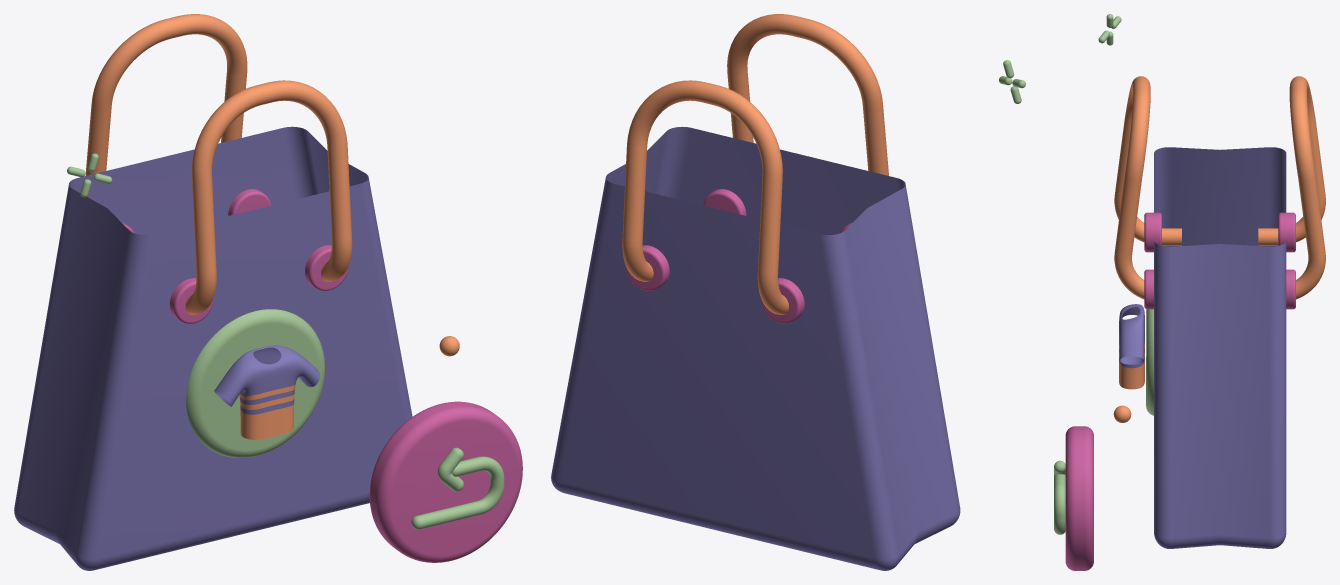
The model's file is return-product-3d-animated-icon-1500659327581.glb.
3 renders of one model, left to right at view 1: azimuth 30°, elevation 25°; view 2: azimuth 150°, elevation 25°; view 3: azimuth 270°, elevation 25°, orthographic. The views are drawn at different scales.
Parts seen in each view (by area): view 1: Cube.002, Cylinder.001, Cube.015, Cylinder.002, Cube.003, Cube.001, Plane, Cylinder; view 2: Cube.002, Cube.003, Cube.015, Cylinder; view 3: Cube.002, Cube.015, Cube.003, Cylinder.001, Cylinder, Cube.001, Plane, Cylinder.002, Cylinder.020.
Boxes of the visible parts, x1,y1,x2,y2 form: Cube.002: (14, 126, 412, 570); Cylinder.001: (369, 401, 522, 562); Cube.015: (185, 80, 352, 314); Cylinder.002: (186, 309, 324, 457); Cube.003: (85, 14, 247, 175); Cube.001: (214, 345, 320, 439); Plane: (411, 447, 504, 529); Cylinder: (121, 189, 348, 323); Cube.002: (551, 126, 960, 570); Cube.003: (622, 80, 788, 314); Cube.015: (727, 14, 888, 175); Cylinder: (625, 189, 852, 323); Cube.002: (1154, 147, 1286, 548); Cube.015: (1114, 76, 1181, 299); Cube.003: (1258, 76, 1325, 299); Cylinder.001: (1065, 426, 1093, 570); Cylinder: (1144, 212, 1295, 309); Cube.001: (1119, 304, 1144, 389); Plane: (1054, 460, 1065, 534); Cylinder.002: (1146, 309, 1153, 415); Cylinder.020: (1098, 14, 1121, 45).
Size of what is drawn, in the model's own units: 2.49 by 2.68 by 1.58.
